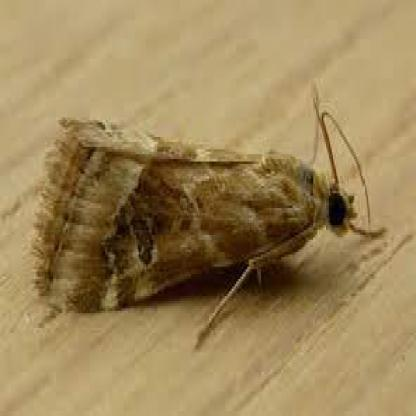Hellula undalis: (22, 64, 392, 354)
